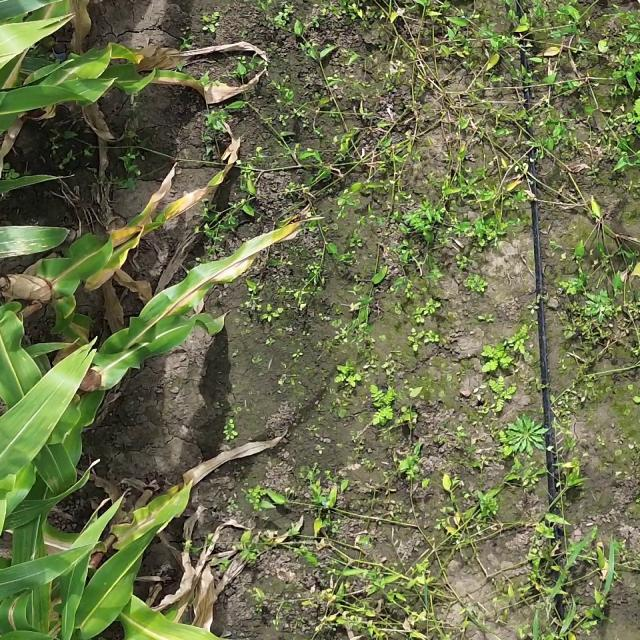gray-leaf-spot: (0, 195, 71, 275), (58, 48, 134, 108)
northern-leaf-blight: (83, 216, 306, 347), (95, 146, 238, 265), (86, 459, 202, 556)
